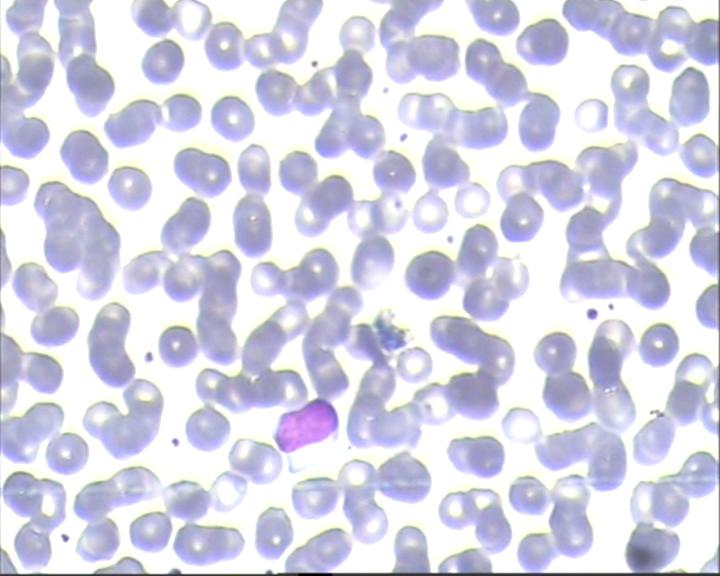lymp: (269, 395, 347, 474)
